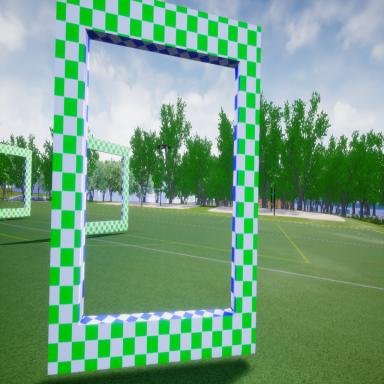gate: (47, 0, 263, 379)
